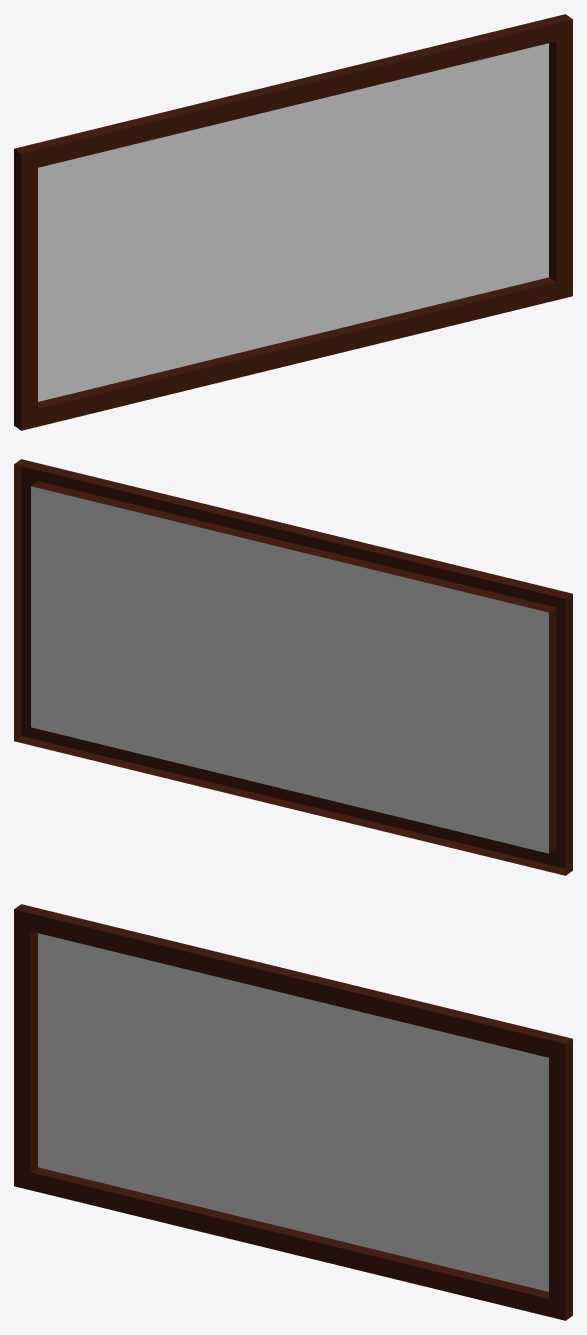
Rendered from portrait_new_horiz.fbx.
The picture shows the model from 3 angles, top to bottom: view 1: azimuth 30°, elevation 25°; view 2: azimuth 150°, elevation 25°; view 3: azimuth 330°, elevation 25°; orthographic projection.
Visible parts, largest first — view 1: portrait_horiz_depth; view 2: portrait_horiz_depth; view 3: portrait_horiz_depth.
Part boxes in pixels (x1,y1,x2,y2): portrait_horiz_depth: (14,14,572,430); portrait_horiz_depth: (14,459,572,875); portrait_horiz_depth: (14,904,572,1320).
Size of the model in its own units: 325 by 156 by 7.42.
